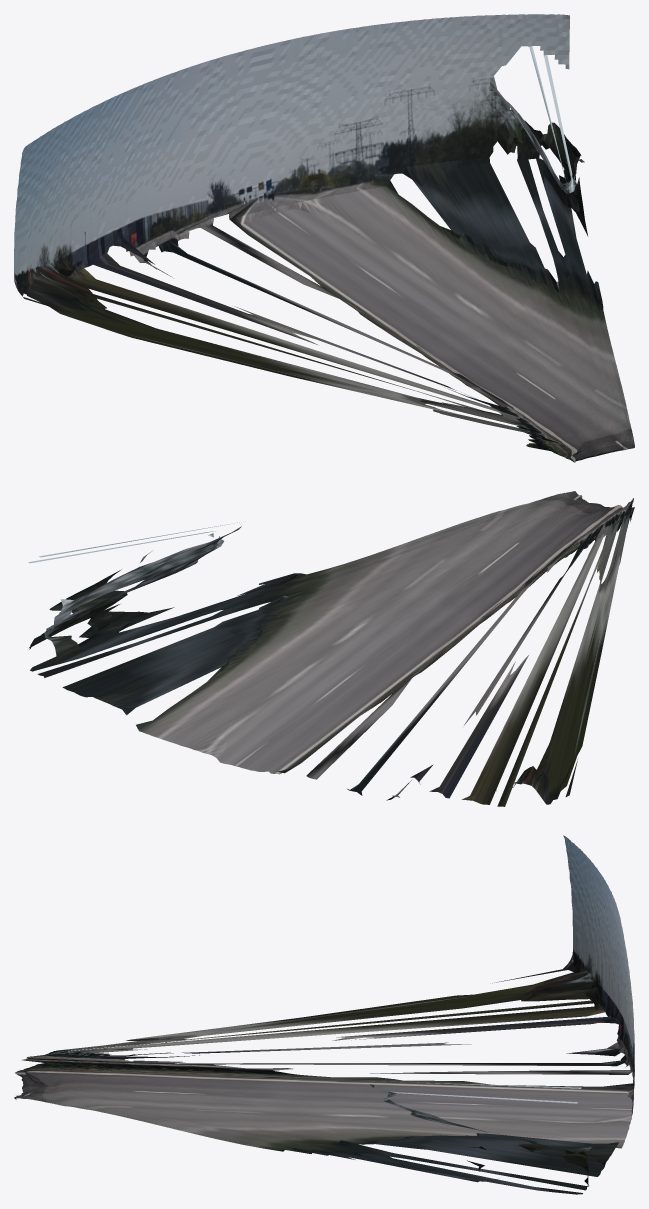
The picture shows the model from 3 angles, top to bottom: view 1: azimuth 30°, elevation 25°; view 2: azimuth 150°, elevation 25°; view 3: azimuth 270°, elevation 25°; orthographic projection. The views are drawn at different scales.
Parts seen in each view (by area): view 1: defaultobject; view 2: defaultobject; view 3: defaultobject.
Boxes of the visible parts, x1,y1,x2,y2 form: defaultobject: (14,14,634,462); defaultobject: (28,491,634,806); defaultobject: (14,835,634,1194).
Size of the model in its own units: 41.05 by 13.13 by 44.78.
Materials: 1 (1 with a texture image).
